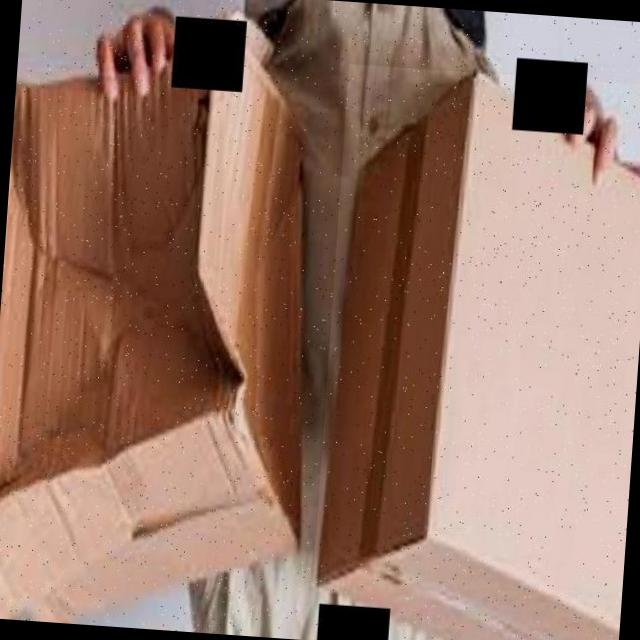box: (0, 0, 339, 637), (308, 63, 640, 640)
